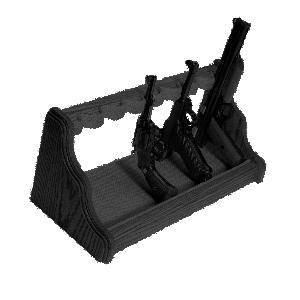handgun: (199, 12, 277, 162), (166, 58, 222, 173), (130, 64, 176, 200)
